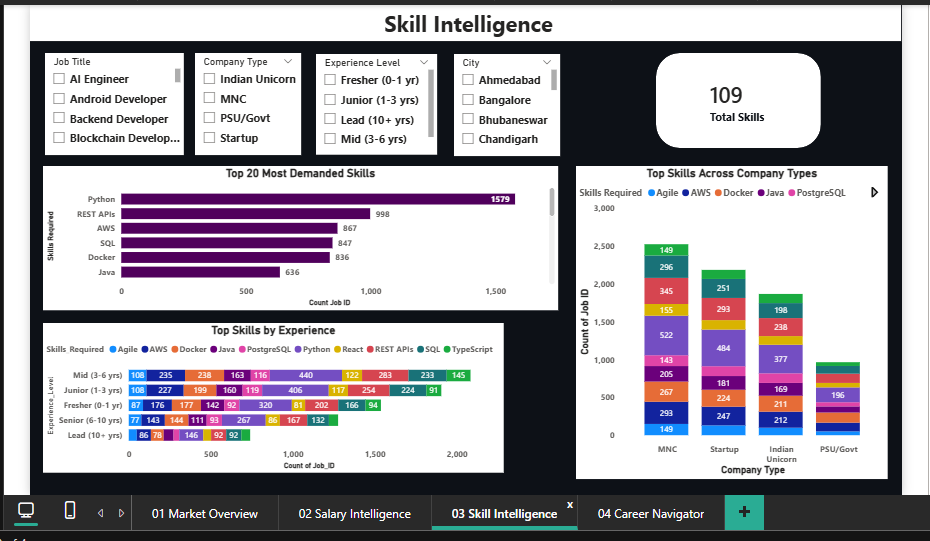

The page's visual inventory and layout, read from the dashboard file:
{"tool":"powerbi","page":{"name":"03 Skill Intelligence","canvas":[1280,720],"ordinal":2},"visuals":[{"type":"shape","box":[919.8,70.5,242.4,139.6],"z":0},{"type":"textbox","box":[0,0,1279.8,52.9],"z":1000},{"type":"clusteredBarChart","title":"Top 20 Most Demanded Skills","fields":{"Category":["skills_dataset.Skills_Required"],"Y":["CountNonNull(skills_dataset.Job_ID)"]},"box":[19.1,236.6,756.7,211.6],"z":2000},{"type":"barChart","title":"Top Skills by Experience","fields":{"Series":["skills_dataset.Skills_Required"],"Y":["CountNonNull(skills_dataset.Job_ID)"],"Category":["skills_dataset.Experience_Level"]},"box":[19.1,467.3,677.4,220.4],"z":3000},{"type":"cardVisual","fields":{"Data":["Count(skills_dataset.Skills_Required)"]},"box":[969.8,82.3,142.5,117.6],"z":4000},{"type":"columnChart","title":"Top Skills Across Company Types","fields":{"Category":["skills_dataset.Company_Type"],"Series":["skills_dataset.Skills_Required"],"Y":["CountNonNull(skills_dataset.Job_ID)"]},"box":[802.3,236.6,458.4,459.9],"z":5000},{"type":"slicer","fields":{"Values":["skills_dataset.Job_Title"]},"box":[22,70.5,204.2,149.9],"z":6000},{"type":"slicer","fields":{"Values":["skills_dataset.Experience_Level"]},"box":[420.2,72,177.8,148.4],"z":7000},{"type":"slicer","fields":{"Values":["skills_dataset.Company_Type"]},"box":[242.4,70.5,155.8,149.9],"z":8000},{"type":"slicer","fields":{"Values":["skills_dataset.City"]},"box":[623,72,155.8,149.9],"z":9000}]}

Visuals, with their boxes on the page's 1280x720 design canvas (x1, y1, x2, y2). These are canvas units, not pixel positions in the 930x541 screenshot, which may show the page scaled, cropped or inside an application window:
shape: 920,70,1162,210
textbox: 0,0,1280,53
"Top 20 Most Demanded Skills" clusteredBarChart: 19,237,776,448
"Top Skills by Experience" barChart: 19,467,696,688
cardVisual - Count(skills_dataset.Skills_Required): 970,82,1112,200
"Top Skills Across Company Types" columnChart: 802,237,1261,696
slicer - skills_dataset.Job_Title: 22,70,226,220
slicer - skills_dataset.Experience_Level: 420,72,598,220
slicer - skills_dataset.Company_Type: 242,70,398,220
slicer - skills_dataset.City: 623,72,779,222
